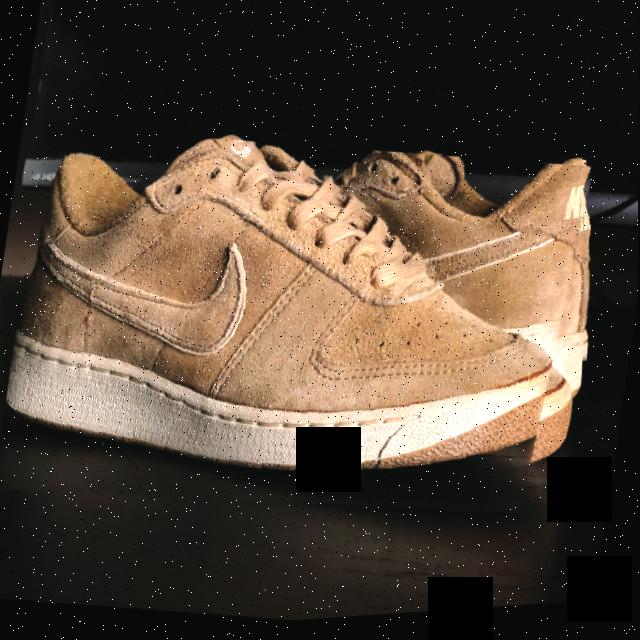shoe: (0, 98, 595, 567), (320, 132, 639, 393)
